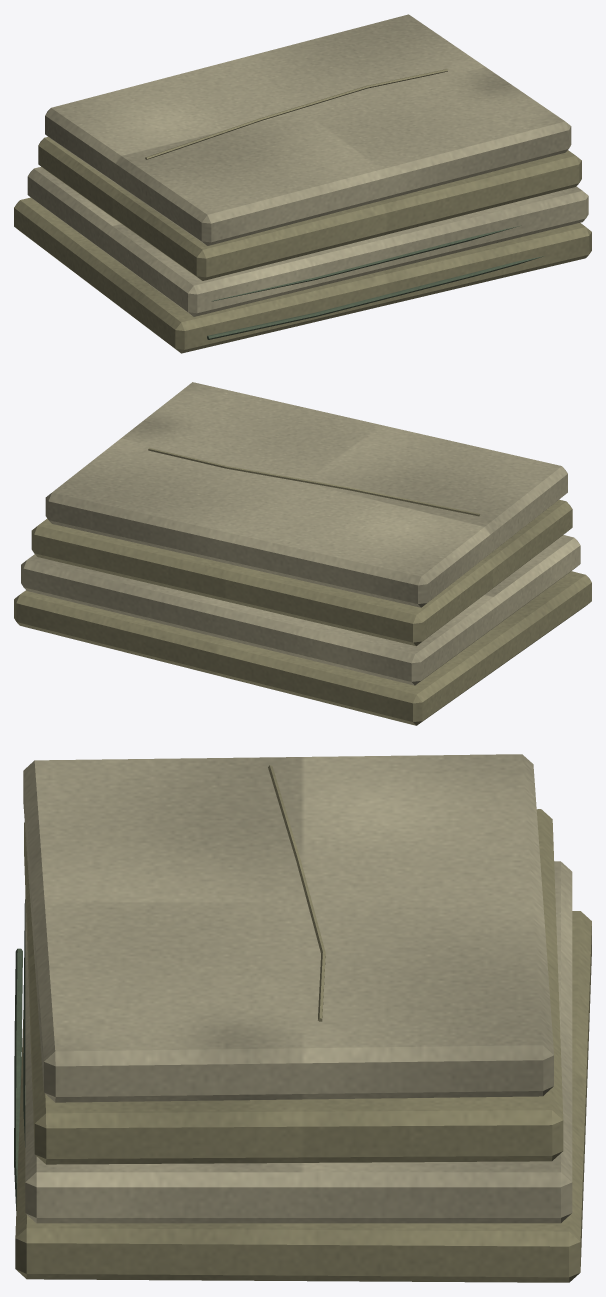
Rendered from folded_bedsheet_stack.glb.
The picture shows the model from 3 angles, top to bottom: view 1: azimuth 30°, elevation 25°; view 2: azimuth 150°, elevation 25°; view 3: azimuth 270°, elevation 25°; orthographic projection. The views are drawn at different scales.
Parts seen in each view (by area): view 1: folded_bedsheet_stack; view 2: folded_bedsheet_stack; view 3: folded_bedsheet_stack.
Boxes of the visible parts, x1,y1,x2,y2 form: folded_bedsheet_stack: (14,14,591,353); folded_bedsheet_stack: (14,382,591,725); folded_bedsheet_stack: (14,754,591,1282).
Size of the model in its own units: 0.4748 by 0.1504 by 0.3476.
3 materials, 3 textured.
